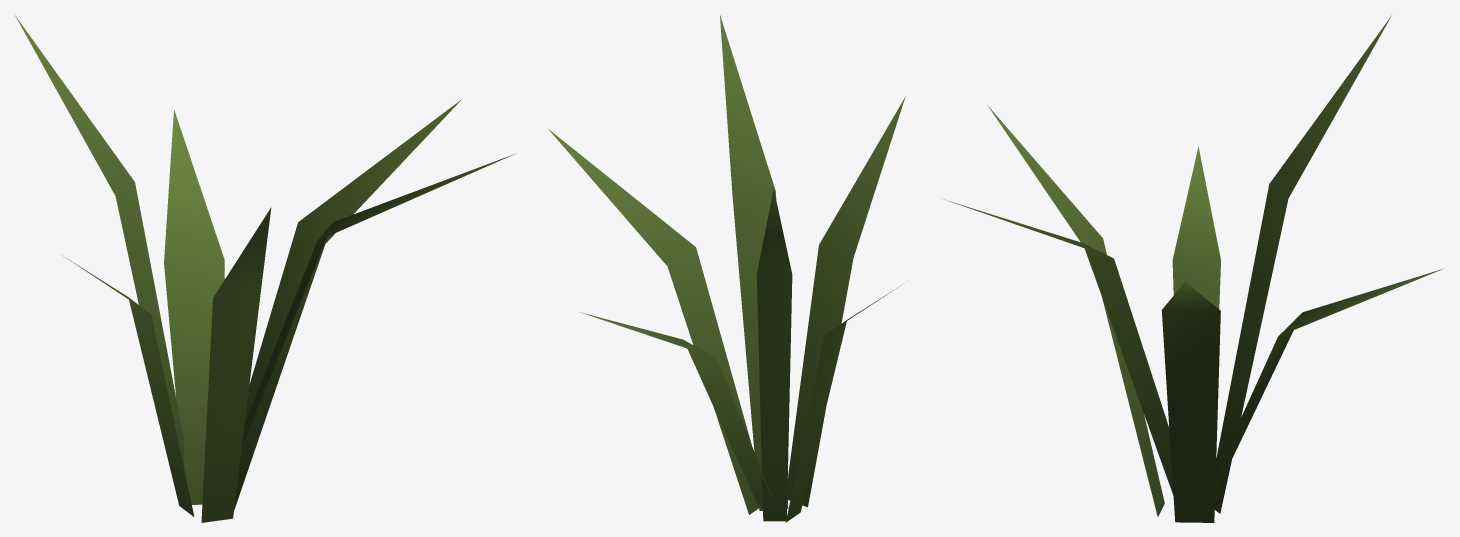
Rendered from MeadowGrass_1_lod1.glb.
3 views of the same model, side by side, from view 1: azimuth 30°, elevation 25°; view 2: azimuth 150°, elevation 25°; view 3: azimuth 270°, elevation 25° (orthographic). The views are drawn at different scales.
Visible parts, largest first — view 1: MeadowGrass_1_lod1; view 2: MeadowGrass_1_lod1; view 3: MeadowGrass_1_lod1.
Boxes of the visible parts, left/top/right/bottom form: MeadowGrass_1_lod1: left=15, top=15, right=516, bottom=522; MeadowGrass_1_lod1: left=548, top=15, right=905, bottom=522; MeadowGrass_1_lod1: left=944, top=15, right=1443, bottom=522.
Size of the model in its own units: 0.3341 by 0.3563 by 0.3617.
